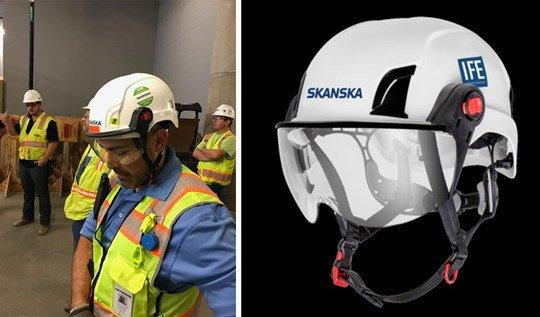helmet: (275, 17, 517, 229), (88, 75, 179, 138), (213, 104, 236, 119), (24, 91, 42, 105)
